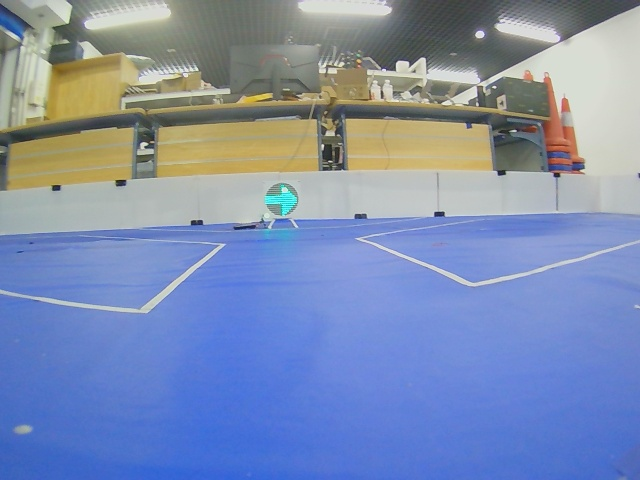right_green: (265, 183, 298, 216)
